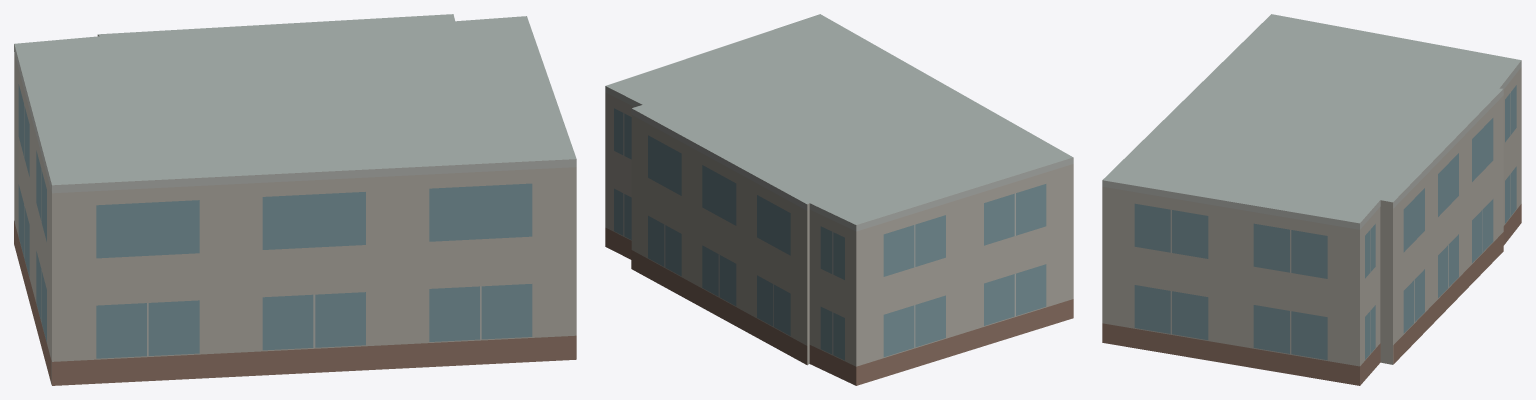
File: survey-upis-32999121.glb
The picture shows the model from 3 angles, left to right: view 1: azimuth 30°, elevation 25°; view 2: azimuth 150°, elevation 25°; view 3: azimuth 270°, elevation 25°; orthographic projection. The views are drawn at different scales.
Visible parts, largest first — view 1: survey-upis-32999121.tmp; view 2: survey-upis-32999121.tmp; view 3: survey-upis-32999121.tmp.
Part boxes in pixels (x1,y1,x2,y2): survey-upis-32999121.tmp: (14, 14, 576, 385); survey-upis-32999121.tmp: (605, 14, 1073, 385); survey-upis-32999121.tmp: (1102, 14, 1521, 385).
Size of the model in its own units: 16.86 by 6.1 by 14.27.
